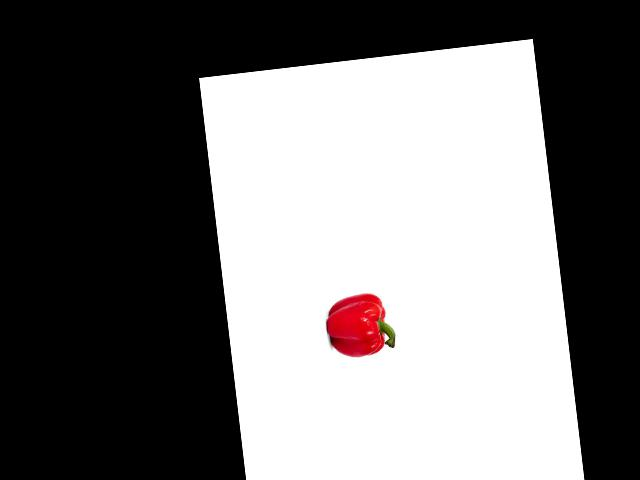bell_pepper: (323, 286, 398, 362)
